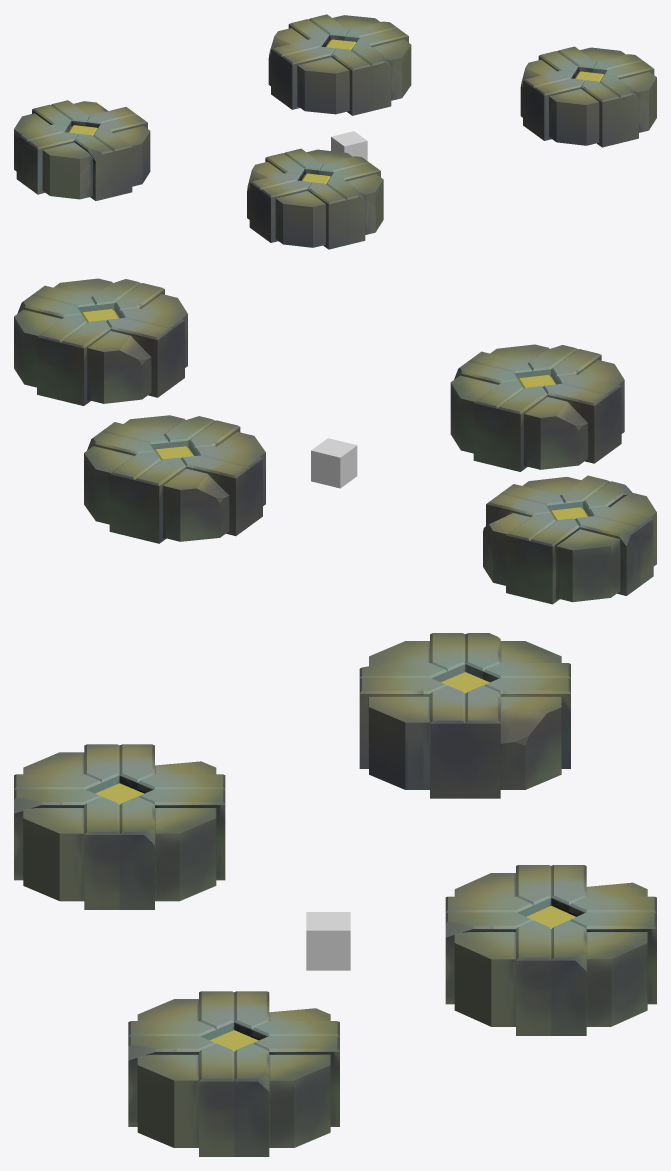
File: trade-floor008.fbx
The picture shows the model from 3 angles, top to bottom: view 1: azimuth 30°, elevation 25°; view 2: azimuth 150°, elevation 25°; view 3: azimuth 270°, elevation 25°; orthographic projection. The views are drawn at different scales.
Parts seen in each view (by area): view 1: Plane.021, Plane.023, Plane.019, Plane.020, trade-floor008; view 2: Plane.021, Plane.023, Plane.019, Plane.020, trade-floor008; view 3: Plane.021, Plane.020, Plane.023, Plane.019, trade-floor008.
Part boxes in pixels (bbox=[...]): Plane.021: bbox=[268, 14, 411, 115]; Plane.023: bbox=[247, 148, 383, 249]; Plane.019: bbox=[520, 46, 656, 147]; Plane.020: bbox=[14, 100, 150, 200]; trade-floor008: bbox=[331, 131, 367, 160]; Plane.021: bbox=[84, 415, 265, 543]; Plane.023: bbox=[450, 344, 624, 471]; Plane.019: bbox=[14, 278, 187, 405]; Plane.020: bbox=[483, 475, 656, 604]; trade-floor008: bbox=[311, 438, 357, 488]; Plane.021: bbox=[445, 865, 656, 1035]; Plane.020: bbox=[359, 633, 570, 798]; Plane.023: bbox=[14, 744, 225, 909]; Plane.019: bbox=[128, 991, 339, 1156]; trade-floor008: bbox=[306, 912, 350, 970].
Size of the model in its own units: 1848 by 197 by 1131.
